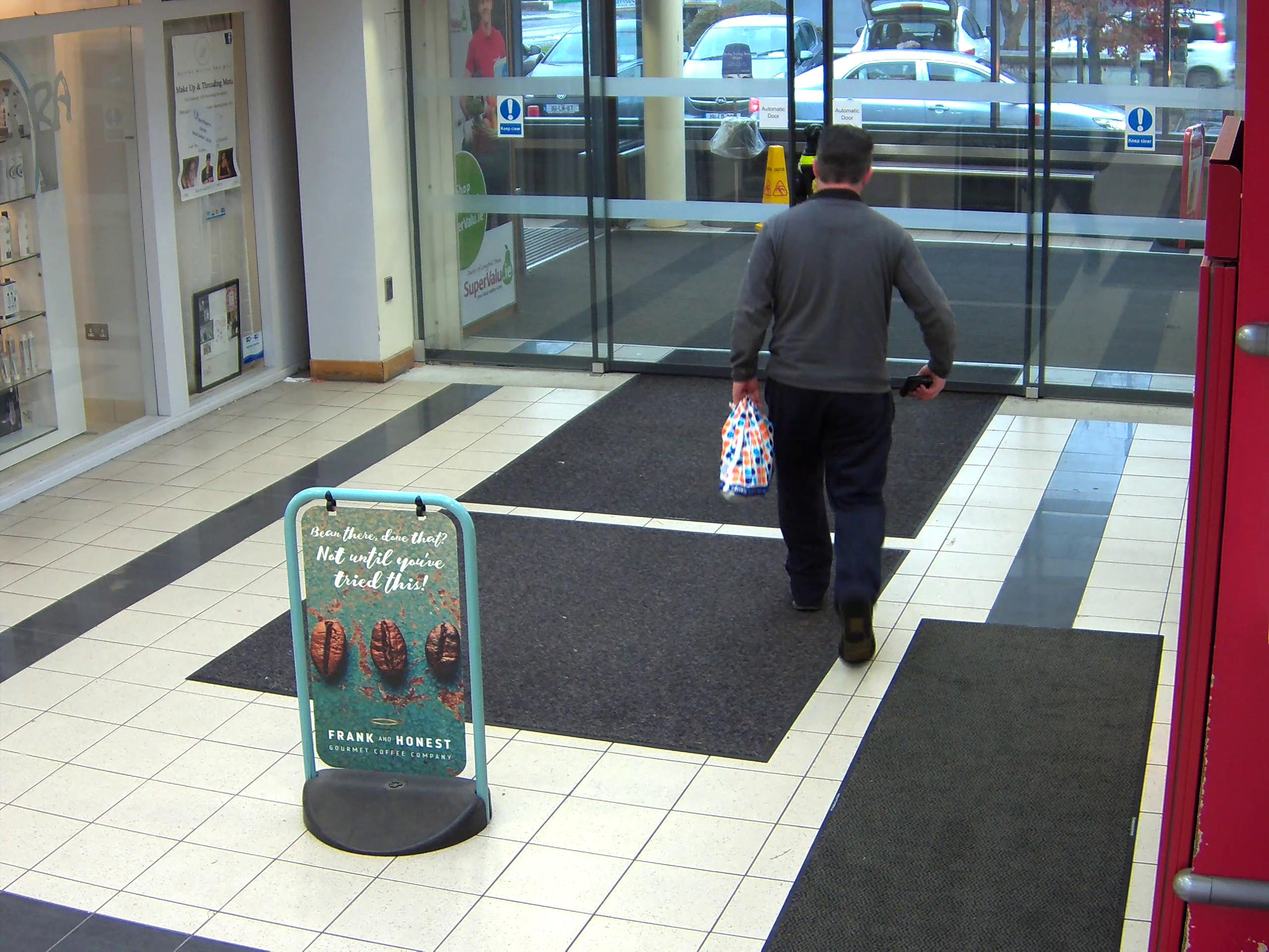filled-shopping-bags: (717, 394, 777, 505)
person: (729, 124, 960, 666)
person-with-filled-shopping-bag-s-: (718, 122, 958, 667)
